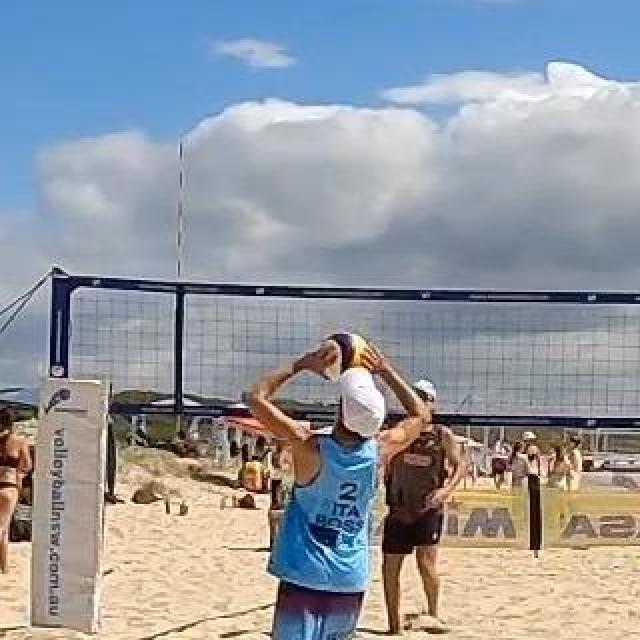volleyball: (316, 331, 374, 387)
